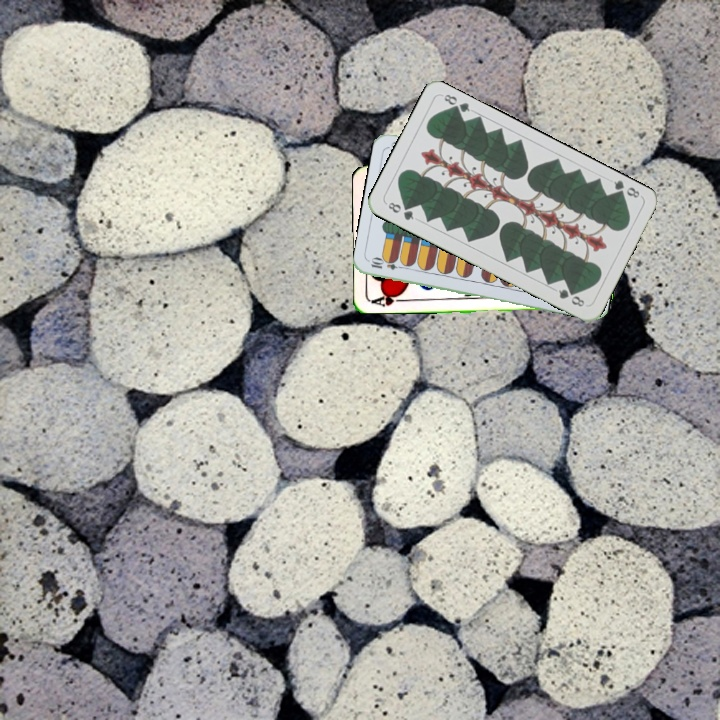E10: (367, 256, 408, 272)
G8: (384, 198, 417, 223), (609, 176, 642, 201)
HA: (368, 289, 408, 308)
